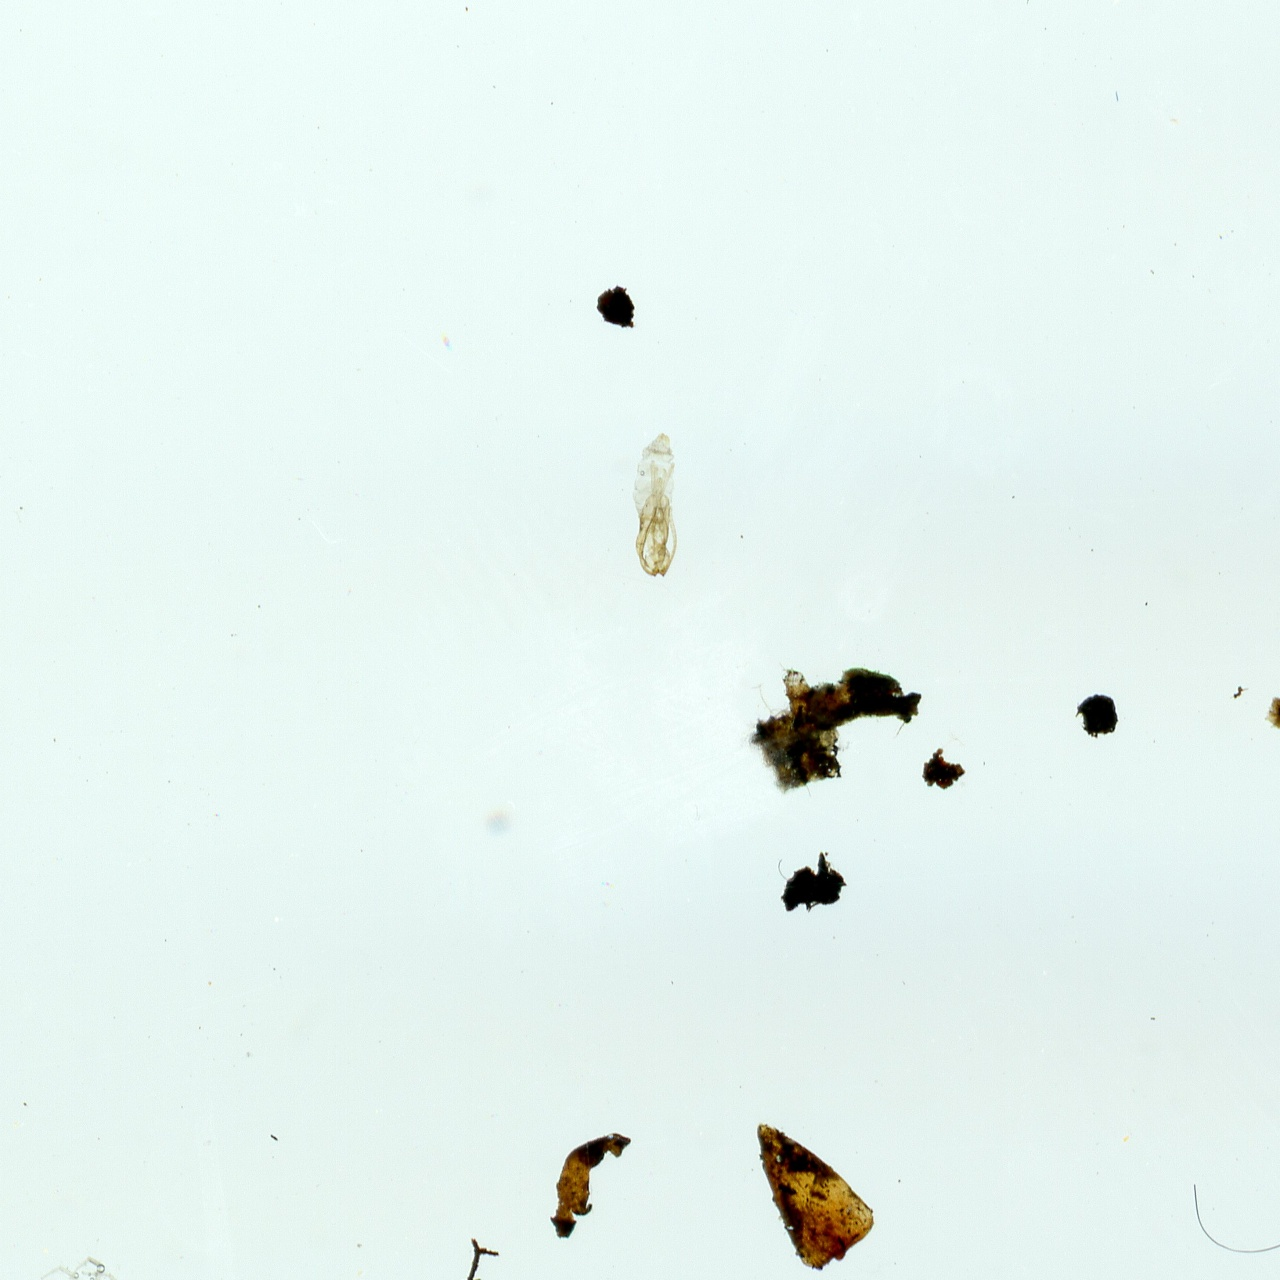arthropod: (624, 426, 688, 584), (0, 1242, 156, 1280)
